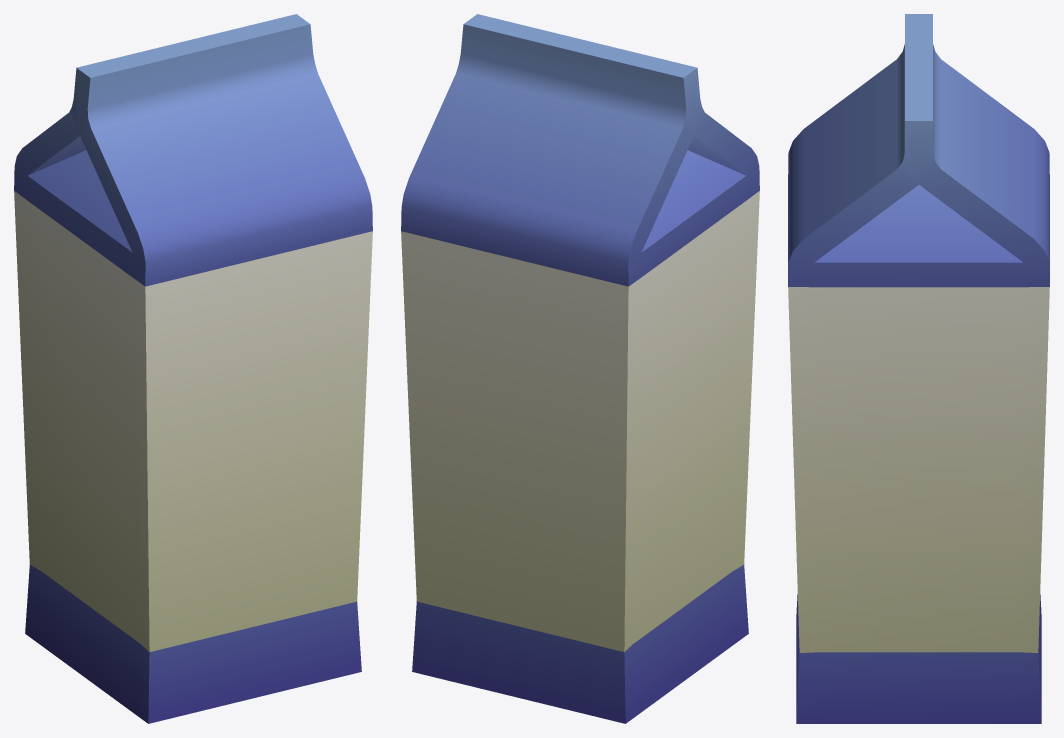
The model's file is Carton_01.glb.
3 renders of one model, left to right at view 1: azimuth 30°, elevation 25°; view 2: azimuth 150°, elevation 25°; view 3: azimuth 270°, elevation 25°, orthographic.
Parts seen in each view (by area): view 1: Carton_01; view 2: Carton_01; view 3: Carton_01.
Part boxes in pixels (<box>): Carton_01: <box>14,14,372,723</box>; Carton_01: <box>401,14,759,723</box>; Carton_01: <box>788,14,1049,723</box>.
Bounding box in the file's own units: 0.2628 × 0.6682 × 0.2622.
1 material, 1 textured.
